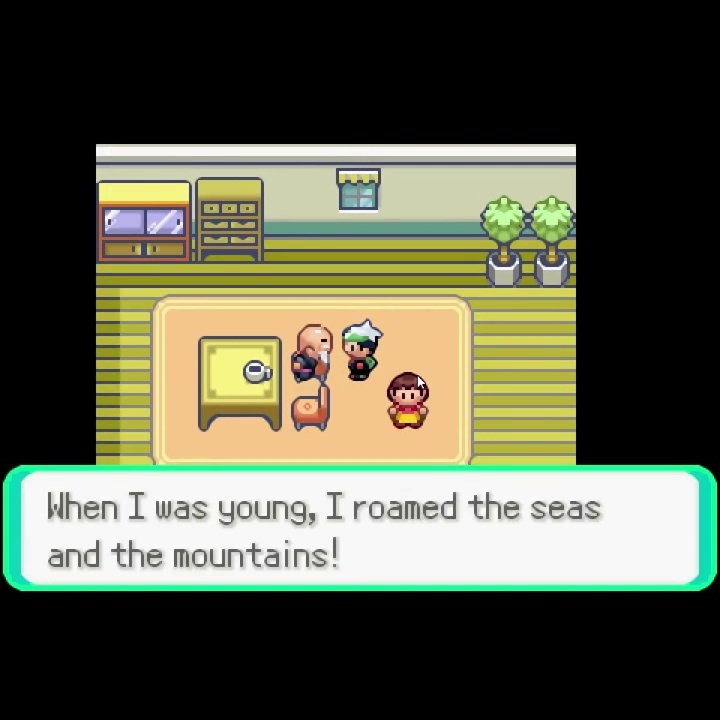agent: (338, 318, 385, 386)
npc: (288, 321, 335, 384), (385, 370, 431, 431)
